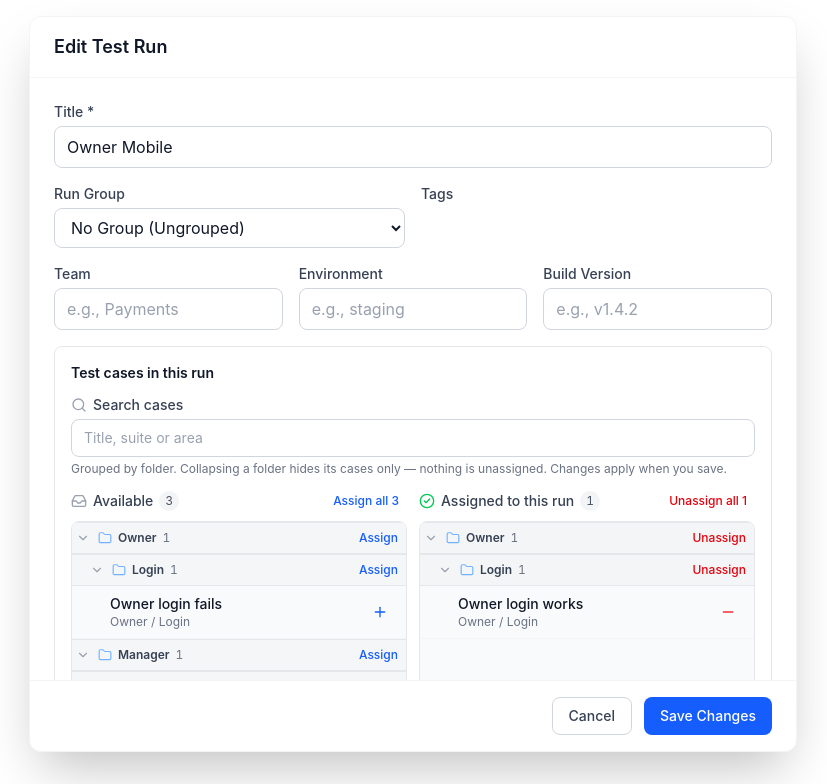
Test case: EditTestRunModal test case assignment › search hides non-matching cases and the folders left empty
Type "Manager" into the field labelled "Search cases". click: (413, 438)
box: x1=71 y1=419 x2=755 y2=457
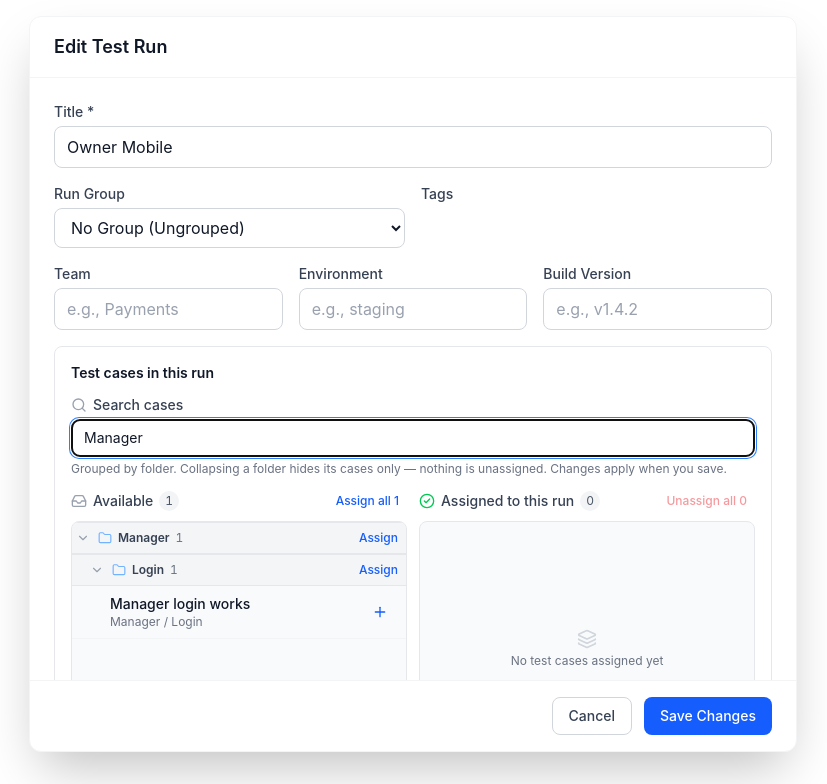
Check: the text "Driver" is not shown
Check: the text "Manager login works" is shown, box x1=110 y1=595 x2=250 y2=612
